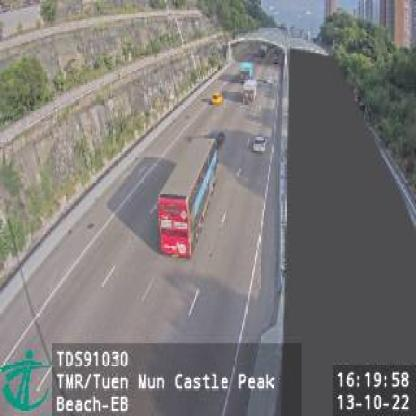Bus: (156, 139, 221, 258)
Car: (252, 134, 269, 152), (210, 90, 223, 104)
Truck: (244, 78, 258, 106), (242, 62, 253, 82)
